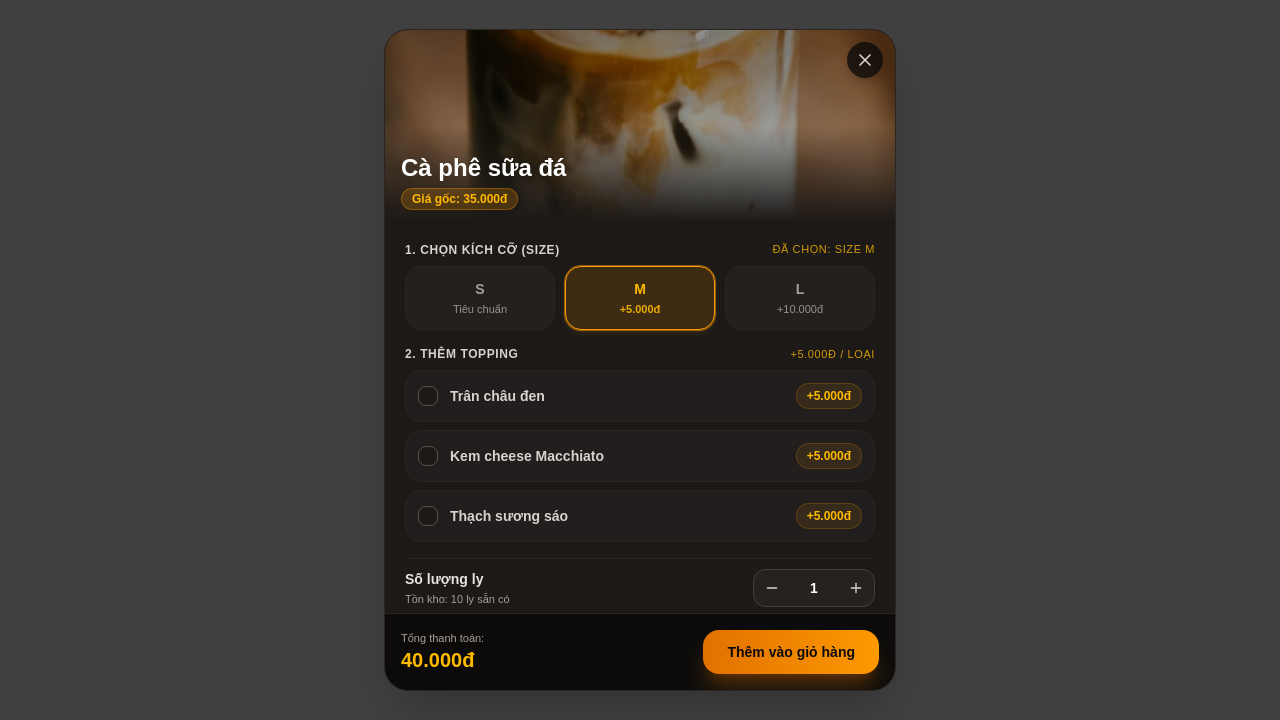
chi tiết & tùy chọn sản phẩm (Task 4) › đổi size và thêm topping thì giá đổi theo
What coordinates should you click on to do the following:
click the button named "Size L (Lớn)"
I would click on:
 (800, 298)
Its box is x1=725 y1=266 x2=875 y2=330.
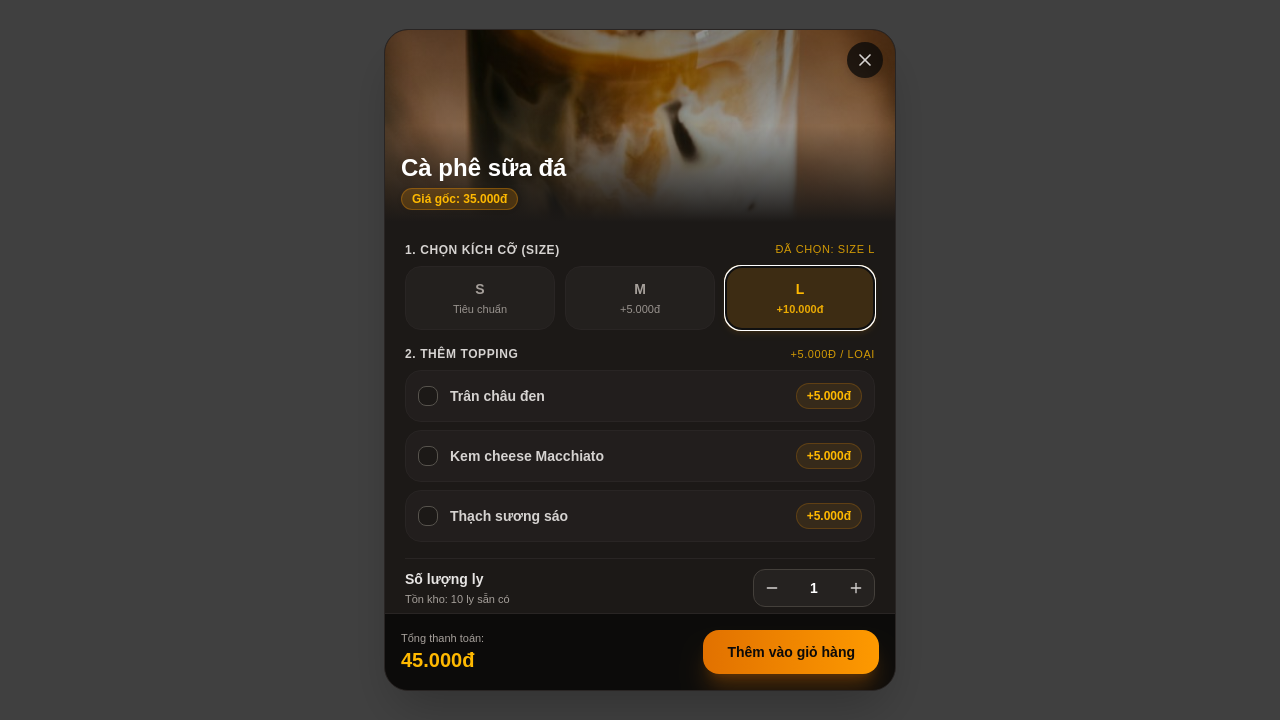
Result: the text "45.000đ" is shown at x1=401 y1=646 x2=484 y2=674
What coordinates should you click on to do the following:
click the checkbox labelled "Trân châu đen +5.000đ"
I would click on:
 (497, 396)
Its box is x1=405 y1=370 x2=875 y2=422.
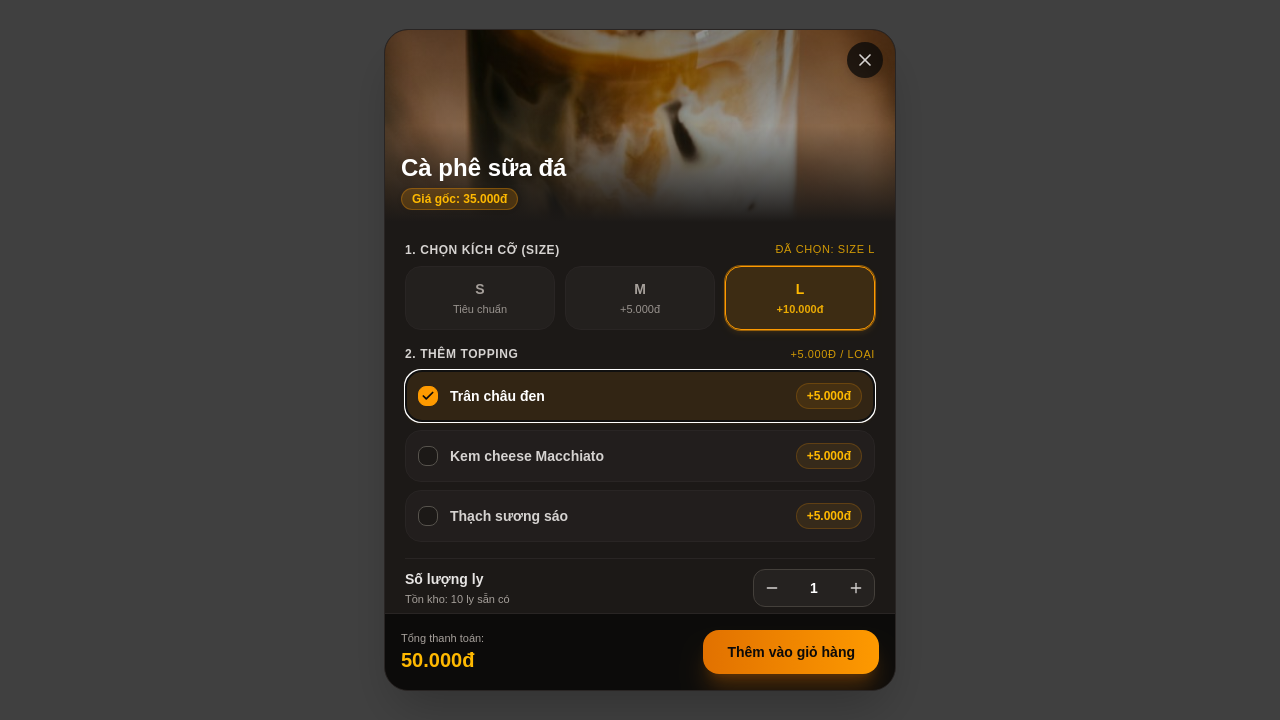
Result: the text "50.000đ" is shown at x1=401 y1=646 x2=484 y2=674
What coordinates should you click on to do the following:
click the checkbox labelled "Trân châu đen +5.000đ"
I would click on:
 (497, 396)
Its box is x1=405 y1=370 x2=875 y2=422.
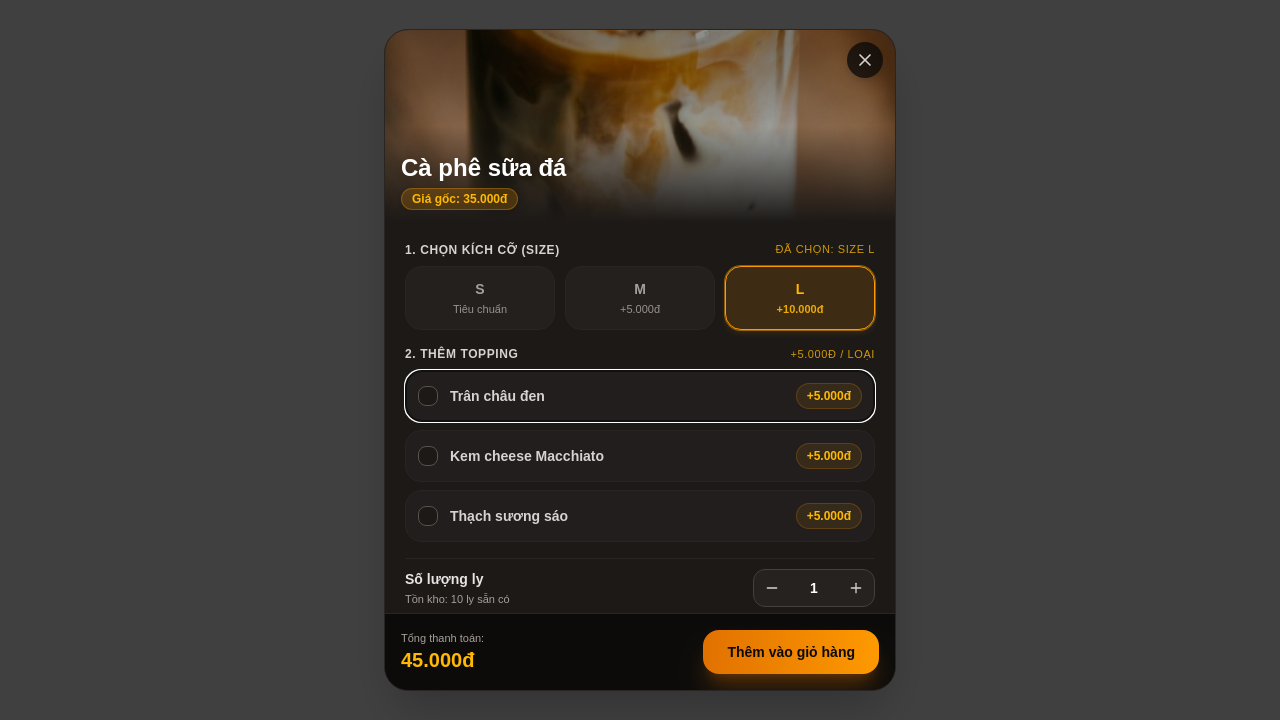
Result: the text "45.000đ" is shown at x1=401 y1=646 x2=484 y2=674
